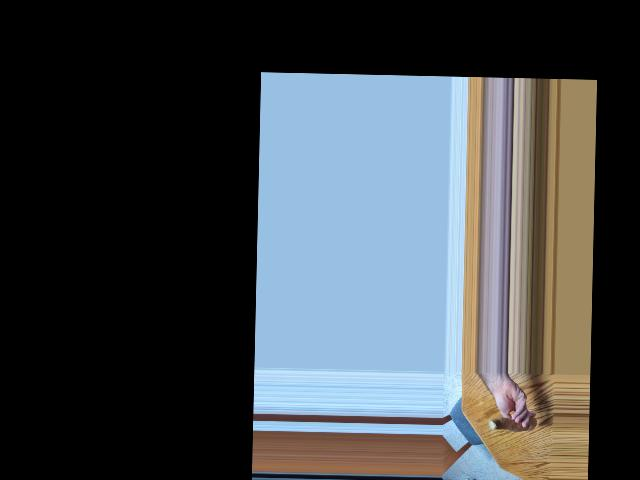sweet_potato: (487, 411, 537, 432)
